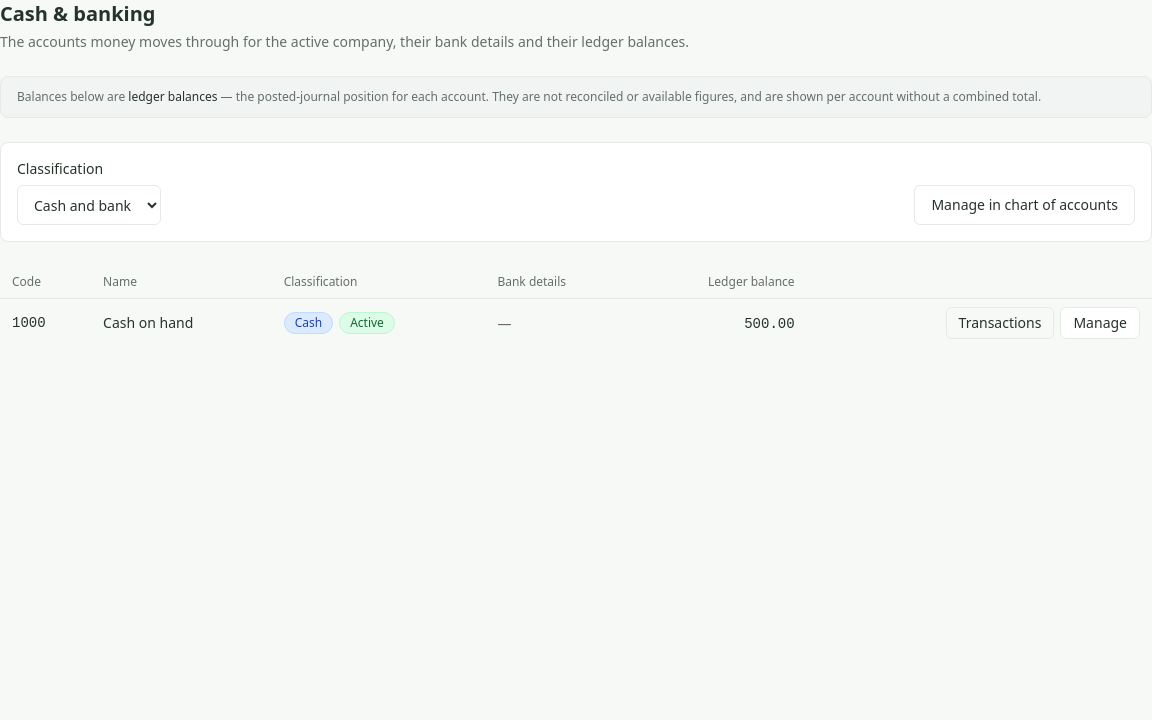
Test: CashBankView › opens the manage dialog from a row
Click the button "Manage" at (1100, 323), box top-left (1060, 307), bottom-right (1140, 339)
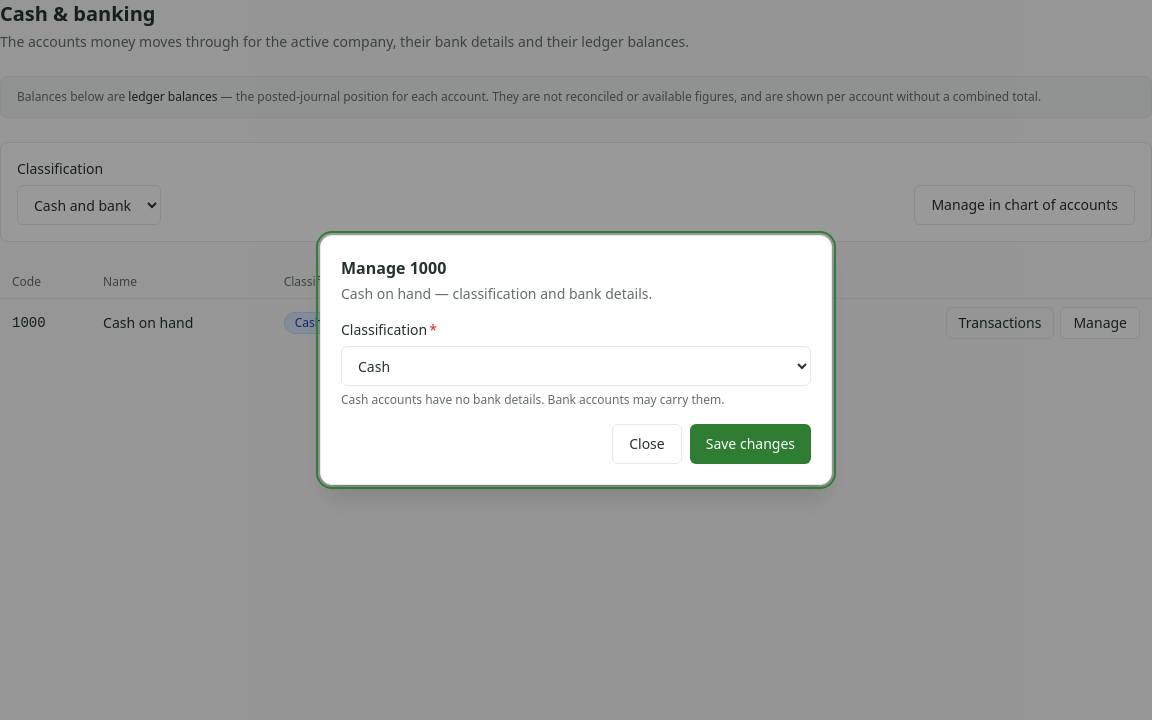
expect the dialog "Manage 1000" is shown: met, box top-left (320, 235), bottom-right (832, 485)
